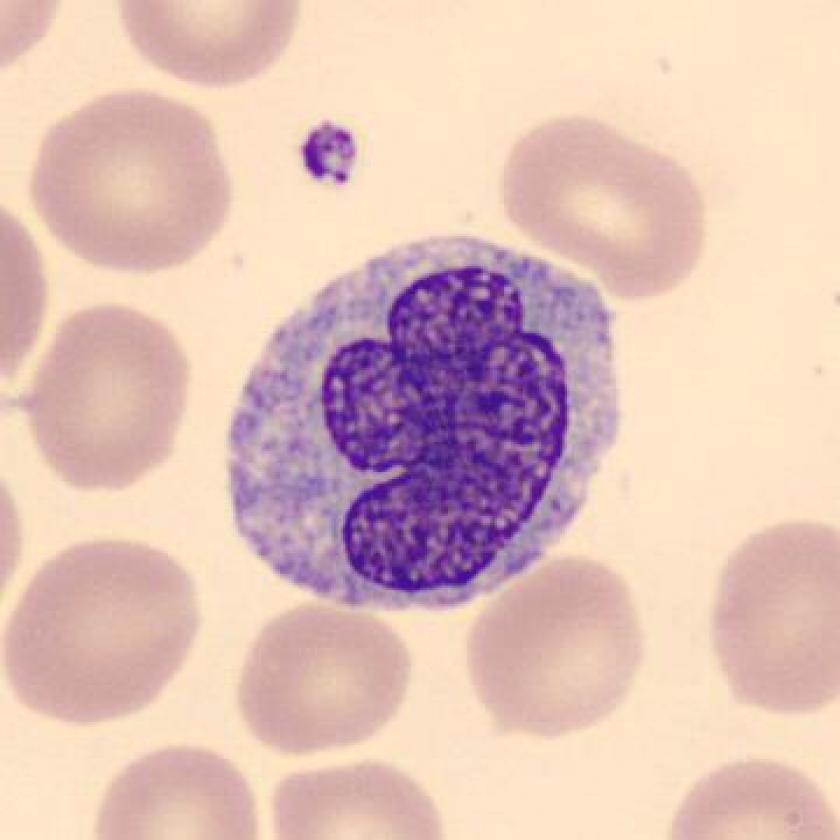monocyte: (209, 221, 650, 633)
